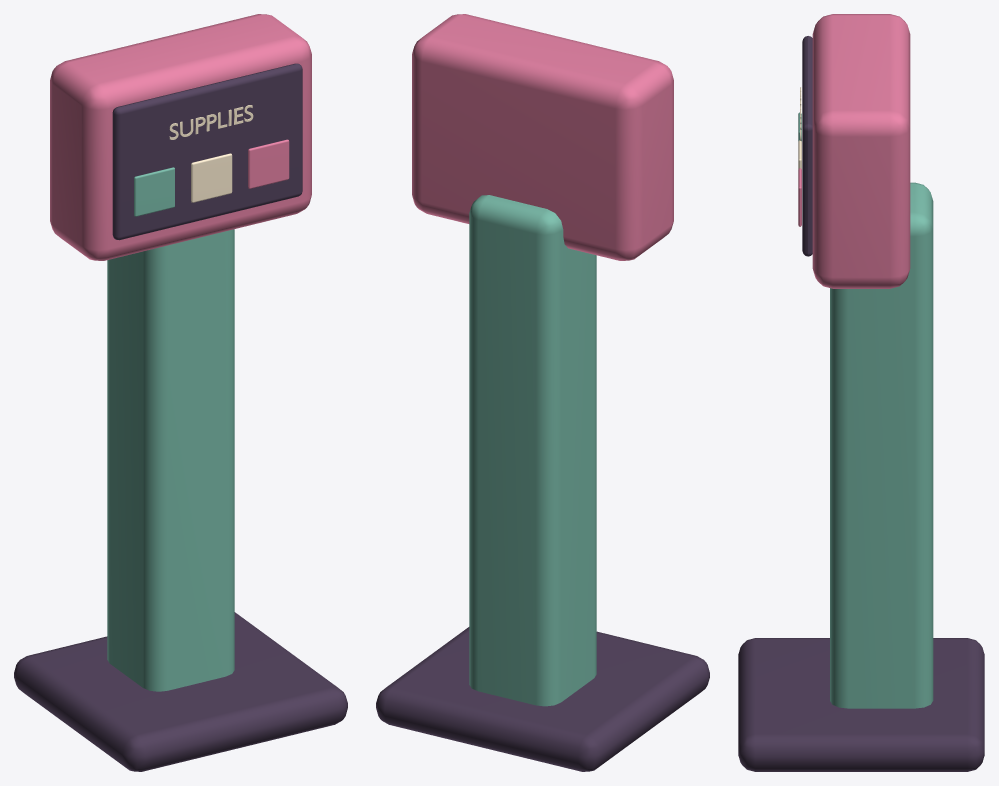
Rendered from Supplier_terminal.fbx.
3 renders of one model, left to right at view 1: azimuth 30°, elevation 25°; view 2: azimuth 150°, elevation 25°; view 3: azimuth 270°, elevation 25°, orthographic.
Visible parts, largest first — view 1: Toon_Supplier_terminal Terminal pedestal.001, Toon_Supplier_terminal Terminal housing.001, Toon_Supplier_terminal Terminal foot.001, Toon_Supplier_terminal Screen.001, Toon_Supplier_terminal Screen category.004, Toon_Supplier_terminal Screen category.005, Toon_Supplier_terminal Screen category.003, Screen title.001; view 2: Toon_Supplier_terminal Terminal pedestal.001, Toon_Supplier_terminal Terminal housing.001, Toon_Supplier_terminal Terminal foot.001; view 3: Toon_Supplier_terminal Terminal pedestal.001, Toon_Supplier_terminal Terminal housing.001, Toon_Supplier_terminal Terminal foot.001, Toon_Supplier_terminal Screen.001.
Part boxes in pixels (<box>): Toon_Supplier_terminal Terminal pedestal.001: <box>107,229,234,691</box>; Toon_Supplier_terminal Terminal housing.001: <box>50,14,311,260</box>; Toon_Supplier_terminal Terminal foot.001: <box>14,612,347,771</box>; Toon_Supplier_terminal Screen.001: <box>112,63,302,240</box>; Toon_Supplier_terminal Screen category.004: <box>191,153,232,202</box>; Toon_Supplier_terminal Screen category.005: <box>248,139,289,188</box>; Toon_Supplier_terminal Screen category.003: <box>134,167,174,216</box>; Screen title.001: <box>169,105,253,139</box>; Toon_Supplier_terminal Terminal pedestal.001: <box>469,195,596,706</box>; Toon_Supplier_terminal Terminal housing.001: <box>412,14,673,260</box>; Toon_Supplier_terminal Terminal foot.001: <box>376,627,709,771</box>; Toon_Supplier_terminal Terminal pedestal.001: <box>830,182,933,708</box>; Toon_Supplier_terminal Terminal housing.001: <box>812,14,910,288</box>; Toon_Supplier_terminal Terminal foot.001: <box>738,638,984,771</box>; Toon_Supplier_terminal Screen.001: <box>802,36,812,256</box>.
Size of the model in its own units: 46 by 127 by 43.
